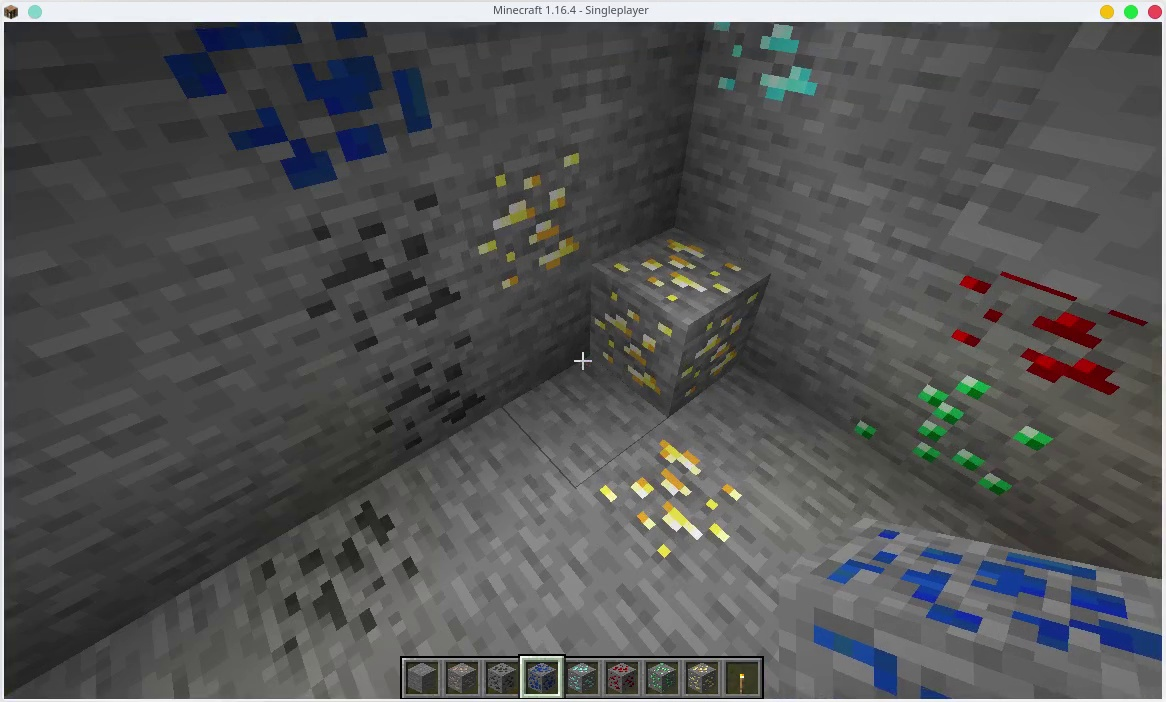gold: (597, 224, 760, 407), (585, 438, 763, 575), (471, 156, 588, 282), (690, 661, 715, 694)
